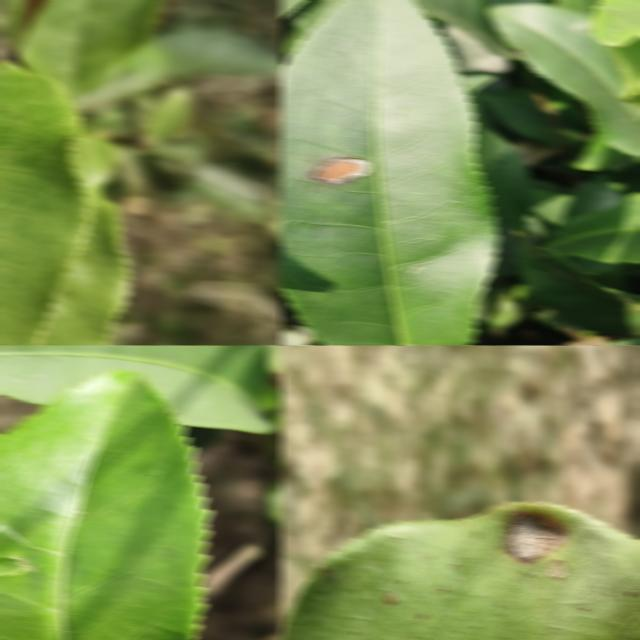Leaf: (280, 0, 498, 345), (0, 371, 208, 640), (280, 502, 640, 640), (0, 63, 88, 345), (0, 345, 272, 432), (487, 2, 640, 156), (34, 136, 129, 345), (74, 26, 282, 108), (8, 0, 162, 97), (516, 243, 640, 336), (471, 96, 532, 229), (542, 192, 640, 263), (412, 0, 526, 57), (590, 0, 640, 100)
